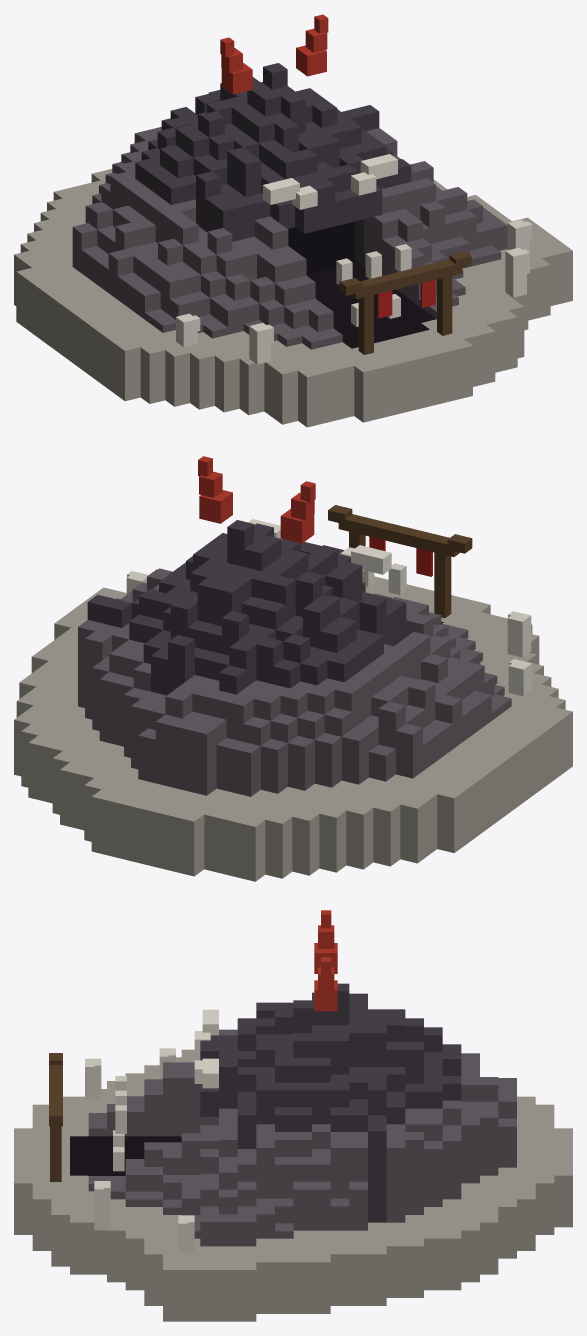
File: background_onigashima_v2.glb
The picture shows the model from 3 angles, top to bottom: view 1: azimuth 30°, elevation 25°; view 2: azimuth 150°, elevation 25°; view 3: azimuth 270°, elevation 25°; orthographic projection. The views are drawn at different scales.
Parts seen in each view (by area): view 1: onigashima; view 2: onigashima; view 3: onigashima.
Boxes of the visible parts, x1=… form: onigashima: x1=14, y1=14, x2=572, y2=427; onigashima: x1=14, y1=456, x2=572, y2=881; onigashima: x1=14, y1=910, x2=572, y2=1321.
Bounding box in the file's own units: 22.4 × 13.05 × 24.
